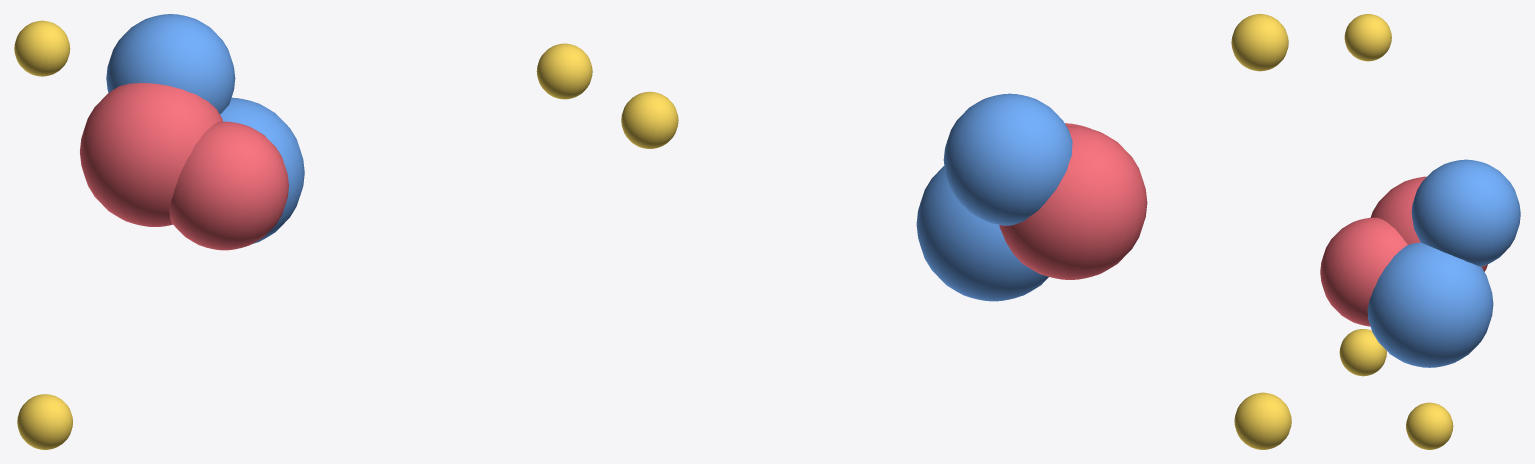
The model's file is atom.glb.
3 renders of one model, left to right at view 1: azimuth 30°, elevation 25°; view 2: azimuth 150°, elevation 25°; view 3: azimuth 270°, elevation 25°, orthographic. The views are drawn at different scales.
Visible parts, largest first — view 1: Proton (×2), Neutron (×2), Electron (×3); view 2: Neutron (×2), Proton, Electron (×3); view 3: Neutron (×2), Proton (×2), Electron (×3).
Boxes of the visible parts, box(x1,y1,x2,y2) form: Proton (×2): box(80, 82, 288, 250); Neutron (×2): box(106, 14, 304, 243); Electron (×3): box(14, 20, 592, 449); Neutron (×2): box(916, 93, 1072, 301); Proton: box(999, 126, 1147, 279); Electron (×3): box(621, 14, 1291, 449); Neutron (×2): box(1367, 159, 1520, 367); Proton (×2): box(1320, 176, 1487, 326); Electron (×3): box(1339, 14, 1453, 449).
Size of the model in its own units: 3.26 by 2.17 by 1.1.
